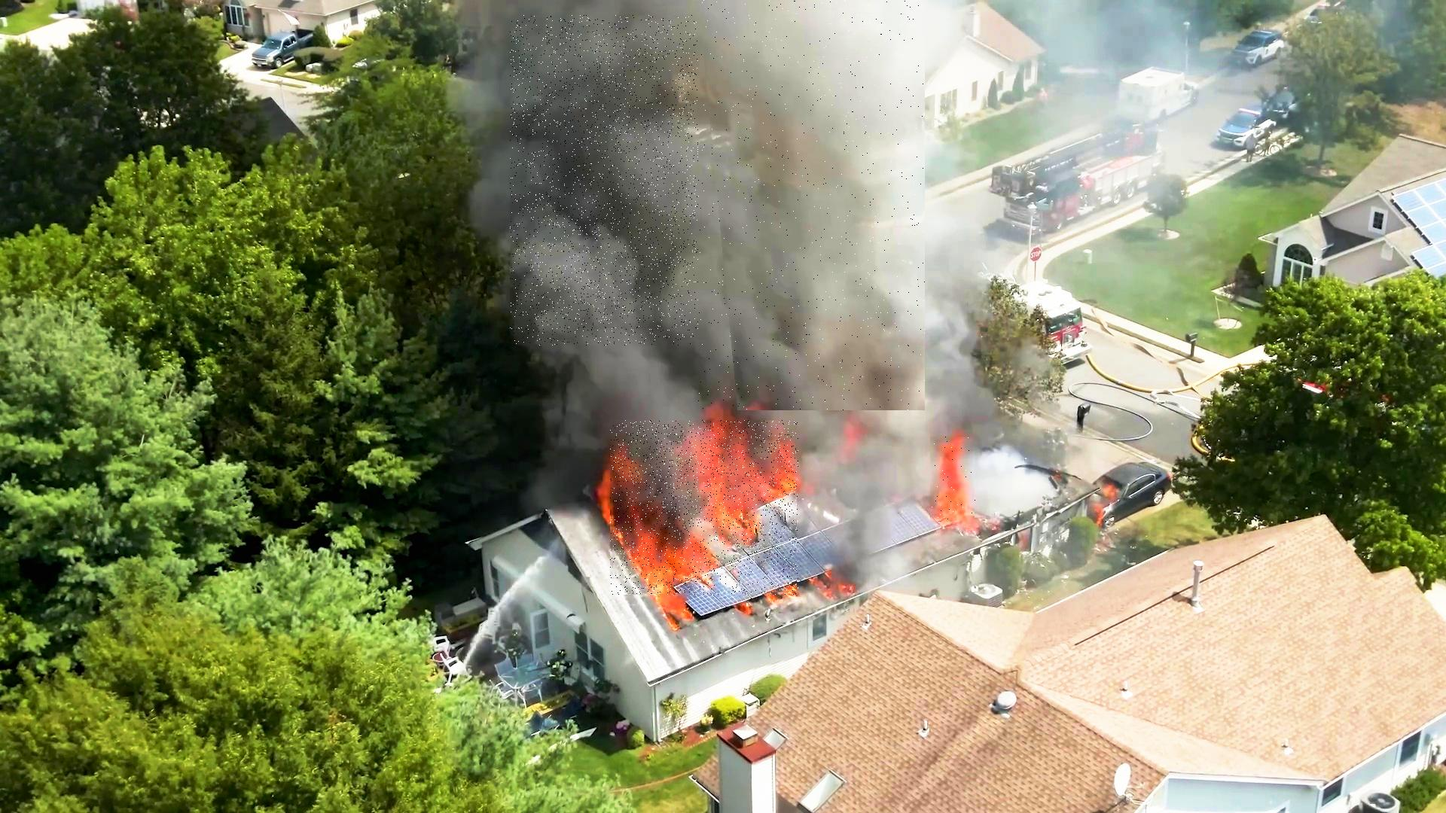fire: (611, 420, 799, 595)
smoke: (511, 15, 819, 345), (698, 0, 925, 410), (931, 437, 977, 527)
